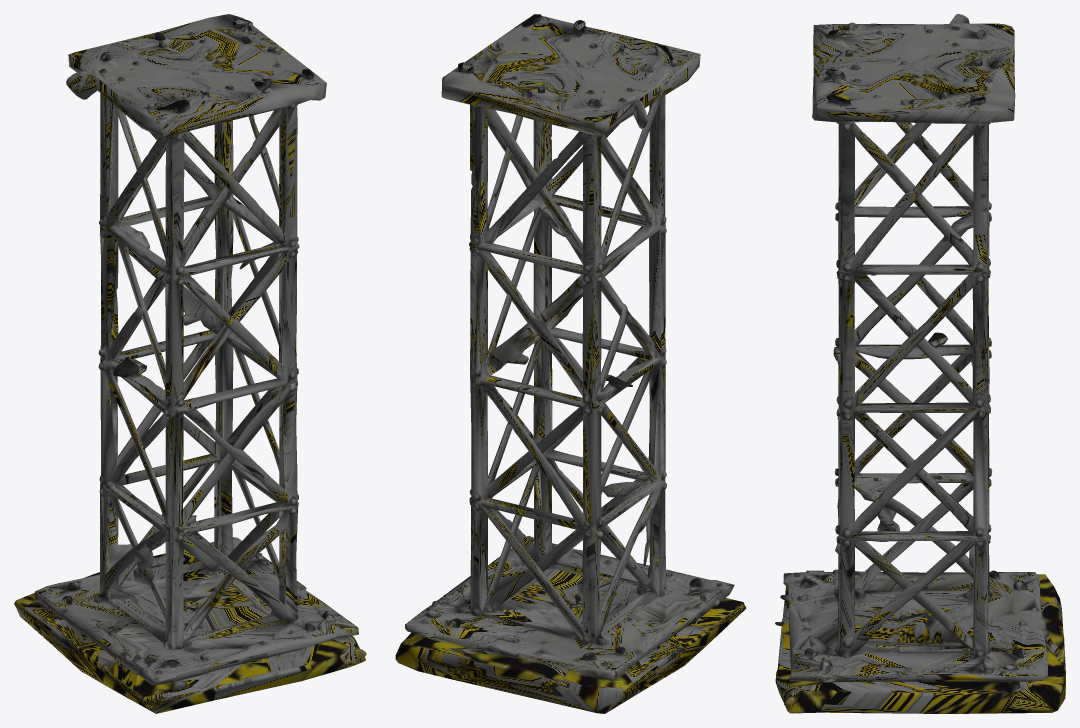
File: tower_pylon.glb
3 renders of one model, left to right at view 1: azimuth 30°, elevation 25°; view 2: azimuth 150°, elevation 25°; view 3: azimuth 270°, elevation 25°, orthographic. The views are drawn at different scales.
Parts seen in each view (by area): view 1: tripo_node_c0000e07-d980-4397-b95d-a72ea8f9e859; view 2: tripo_node_c0000e07-d980-4397-b95d-a72ea8f9e859; view 3: tripo_node_c0000e07-d980-4397-b95d-a72ea8f9e859.
Part boxes in pixels (x1,y1,x2,y2): tripo_node_c0000e07-d980-4397-b95d-a72ea8f9e859: [14, 14, 366, 713]; tripo_node_c0000e07-d980-4397-b95d-a72ea8f9e859: [395, 14, 746, 713]; tripo_node_c0000e07-d980-4397-b95d-a72ea8f9e859: [775, 14, 1065, 713].
Size of the model in its own units: 0.4095 by 0.9995 by 0.4362.
Materials: 1 (1 with a texture image).
